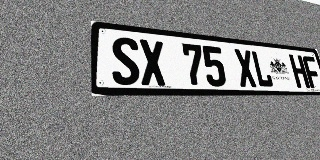5: (202, 45, 227, 87)
7: (180, 43, 207, 86)
F: (302, 56, 320, 88)
H: (289, 54, 310, 88)
L: (250, 50, 274, 87)
S: (111, 36, 141, 85)
X: (138, 39, 167, 86), (233, 49, 258, 87)
